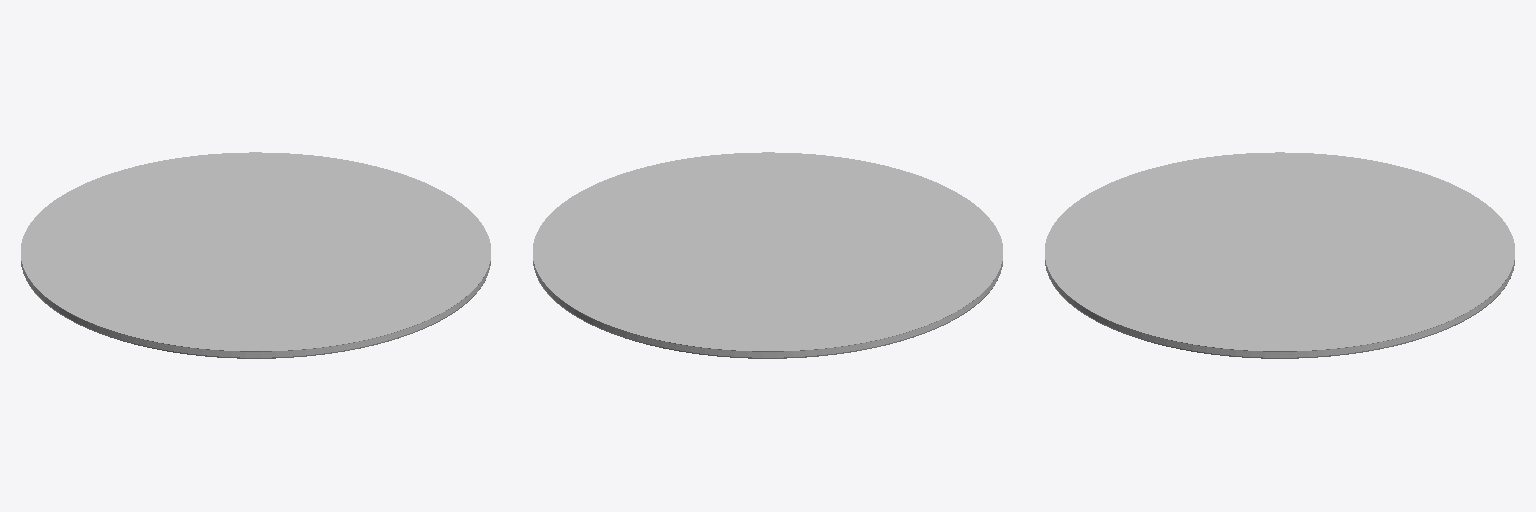
Rendered from 06_tapa_2.obj.
3 views of the same model, side by side, from view 1: azimuth 30°, elevation 25°; view 2: azimuth 150°, elevation 25°; view 3: azimuth 270°, elevation 25° (orthographic).
Visible parts, largest first — view 1: 16818_carousel_v1; view 2: 16818_carousel_v1; view 3: 16818_carousel_v1.
Boxes of the visible parts, box(x1,y1,x2,y2) form: 16818_carousel_v1: box(21, 152, 490, 358); 16818_carousel_v1: box(533, 152, 1002, 358); 16818_carousel_v1: box(1045, 152, 1514, 358).
Bounding box in the file's own units: 4.7 × 0.0892 × 4.7.